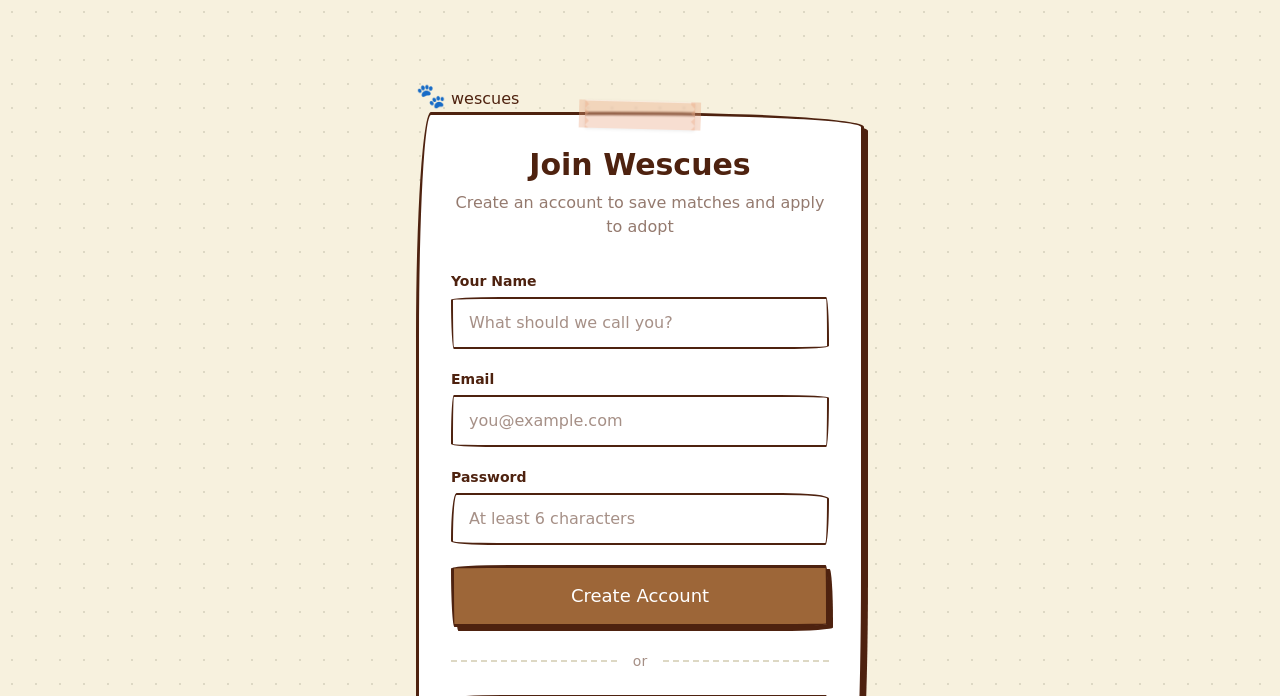
Signup Page › shows success message after successful signup
Type "Jane" into the field with placeholder "What should we call you?" at (640, 323), box [451,297,829,349]
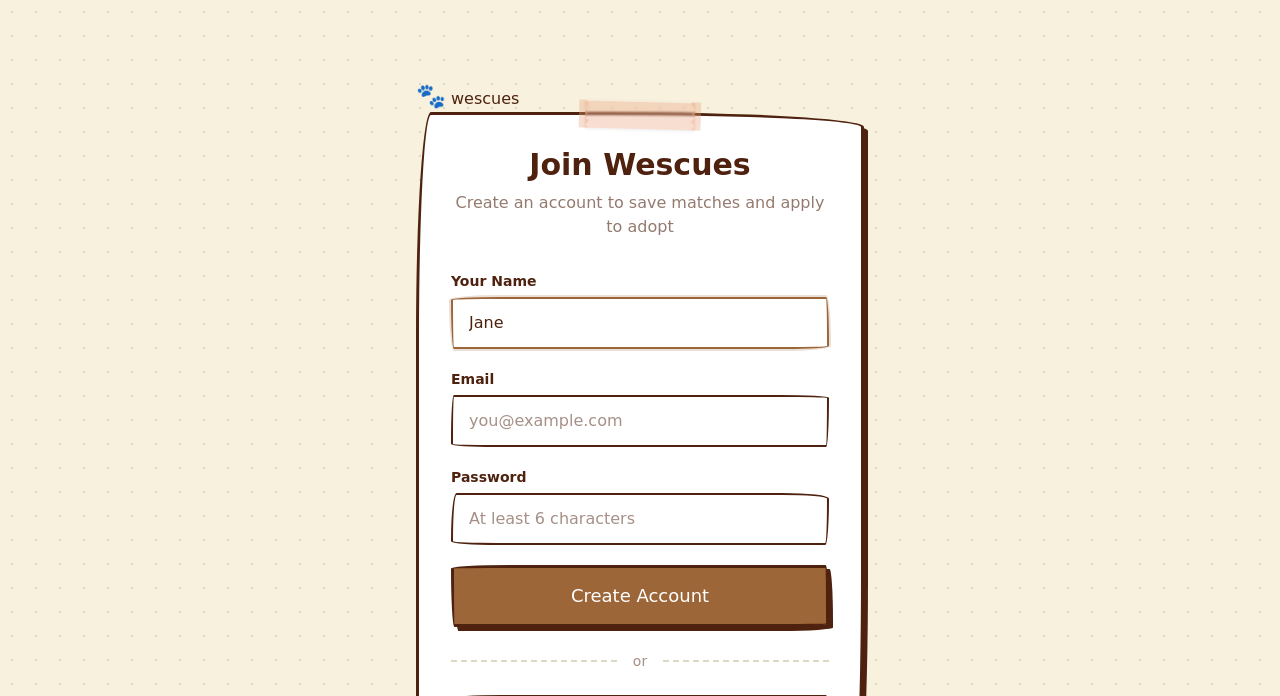
Type "jane@example.com" into the field with placeholder "you@example.com" at (640, 421), box [451,395,829,447]
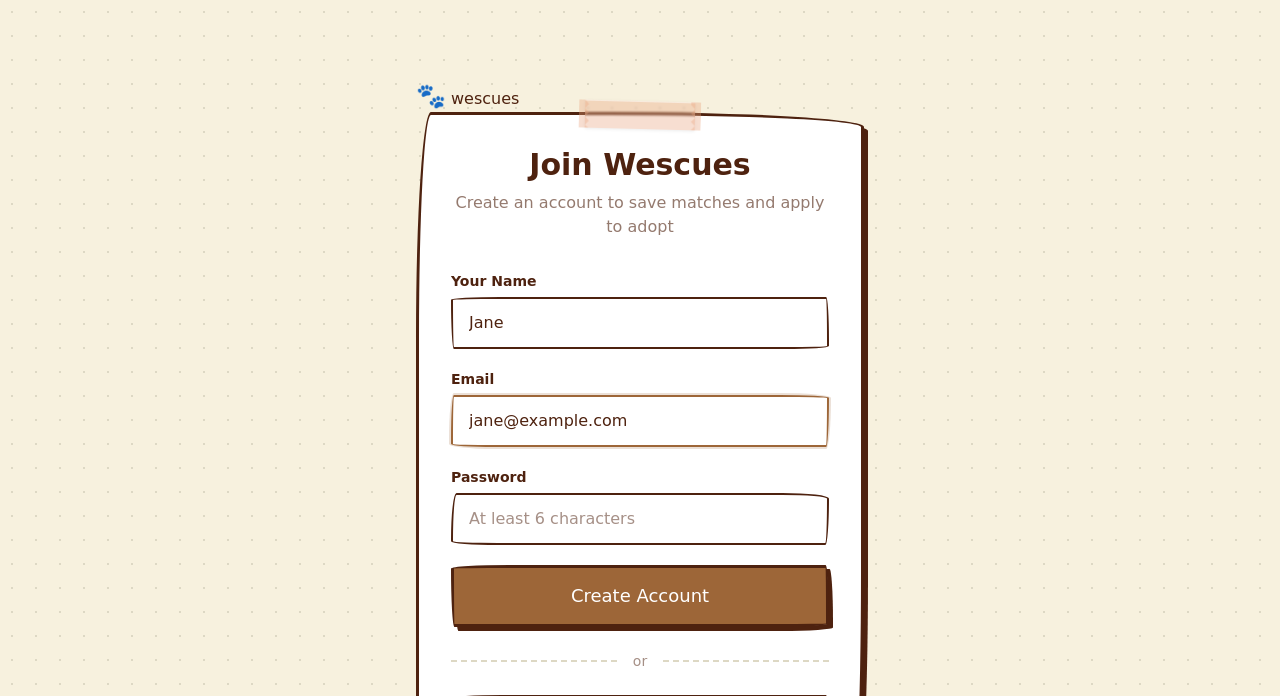
Type "password123" into the password field with placeholder "At least 6 characters" at (640, 519), box [451,493,829,545]
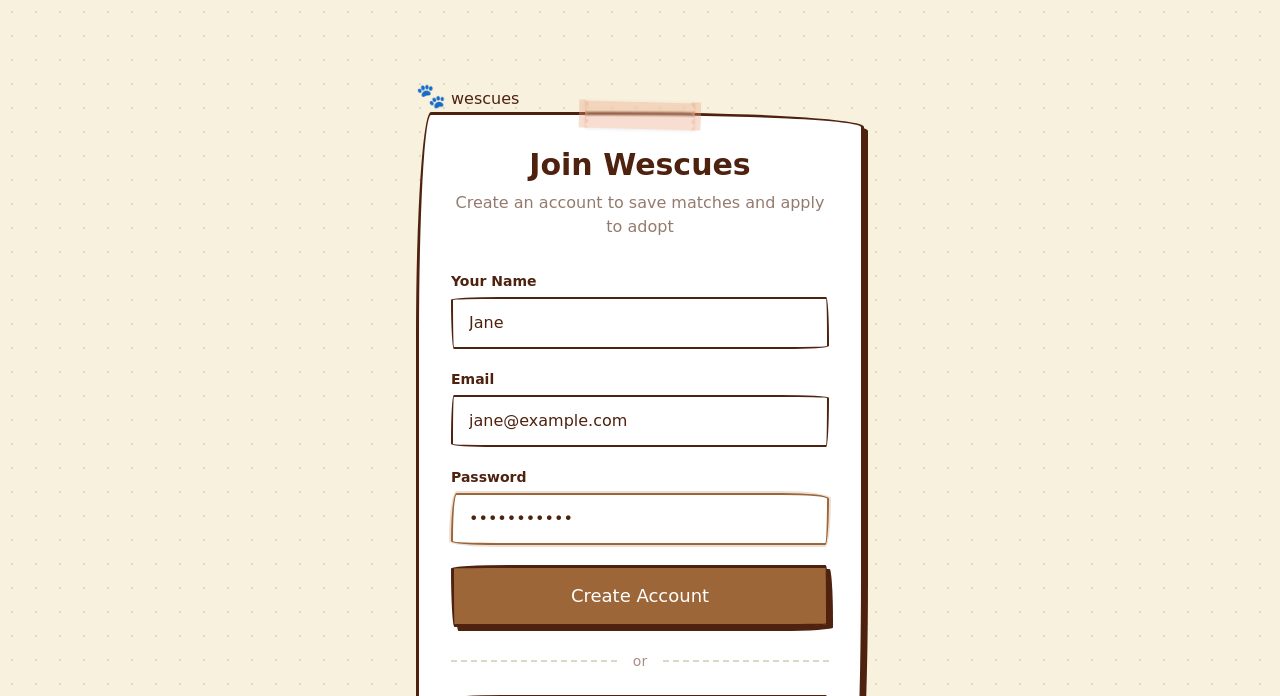
Click the button "Create Account" at (640, 596), box [451,565,829,627]
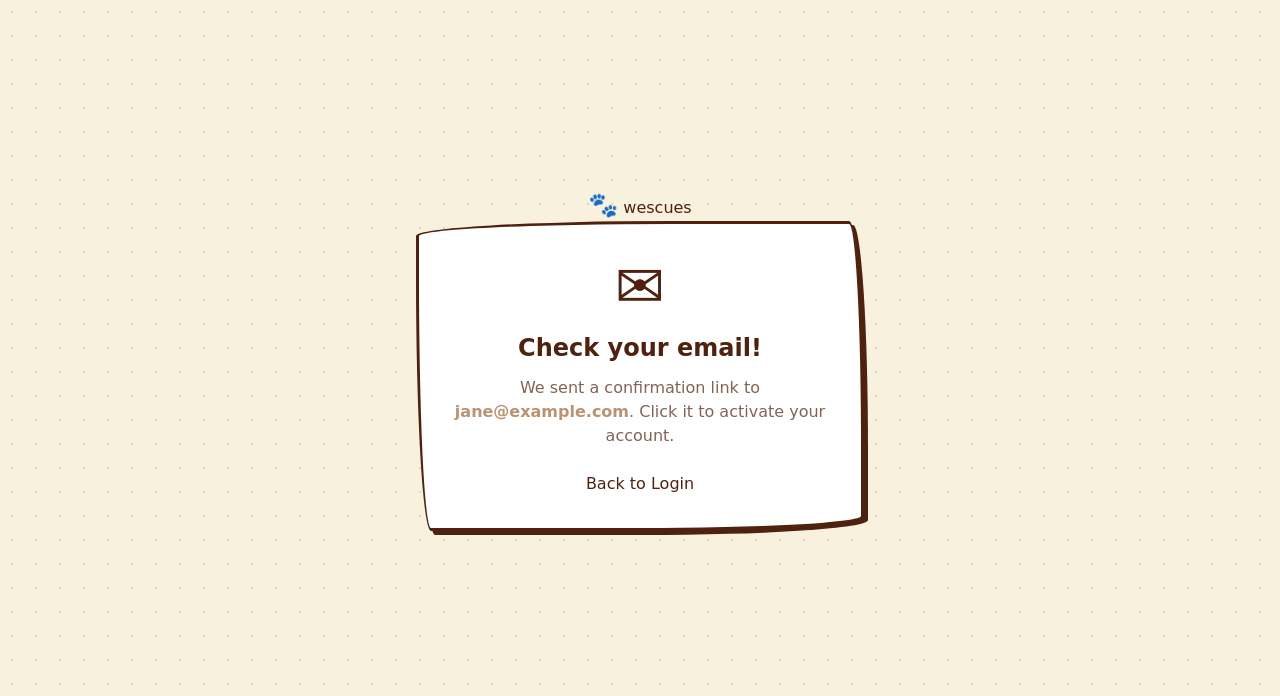
Expected: the heading "Check your email!" is shown, [518,334,762,362]
Expected: the text "jane@example.com" is shown, [455,402,629,421]
